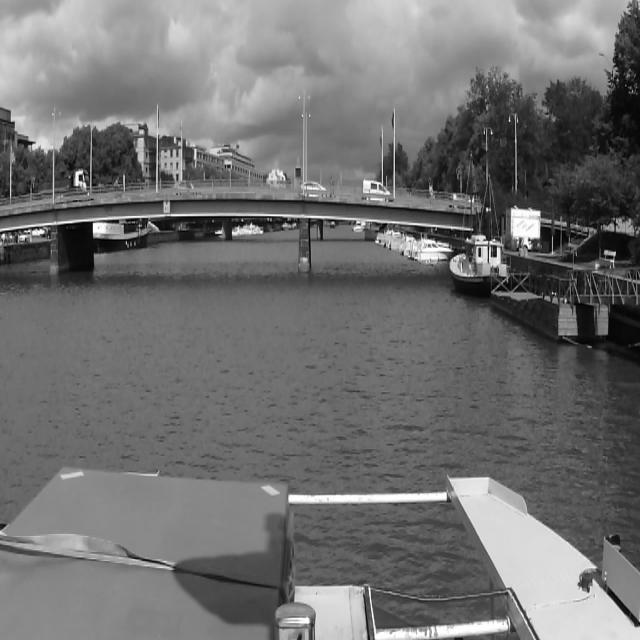ship: (450, 236, 516, 294), (419, 238, 449, 262)
